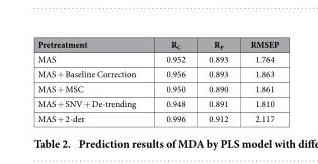table: (36, 37, 278, 124)
table column: (36, 37, 150, 124), (150, 37, 196, 124), (196, 37, 238, 124), (238, 37, 278, 124)
table column header: (36, 37, 278, 51)
table row: (36, 51, 278, 66), (36, 80, 278, 95), (36, 95, 278, 110), (36, 37, 278, 51), (36, 66, 278, 80), (36, 110, 278, 124)
